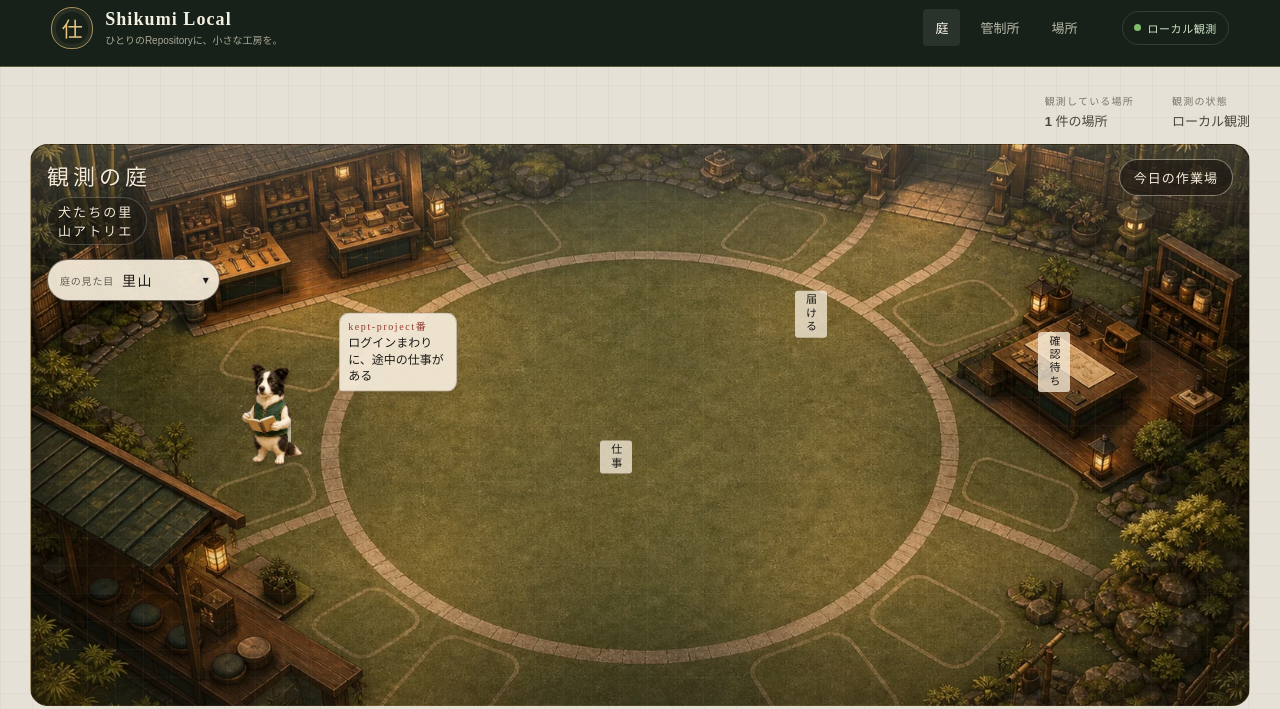
Test: Shikumi Local garden › restores a persisted workspace on load
The image size is (1280, 709).
Expected: the element with test id "workspace-line" shows "1 件の場所", [1045, 114, 1108, 129]
Expected: the heading "観測の庭" is shown, [47, 165, 151, 190]
Click the link "場所".
click(1064, 28)  # box [1052, 21, 1078, 36]
(page scrolled)
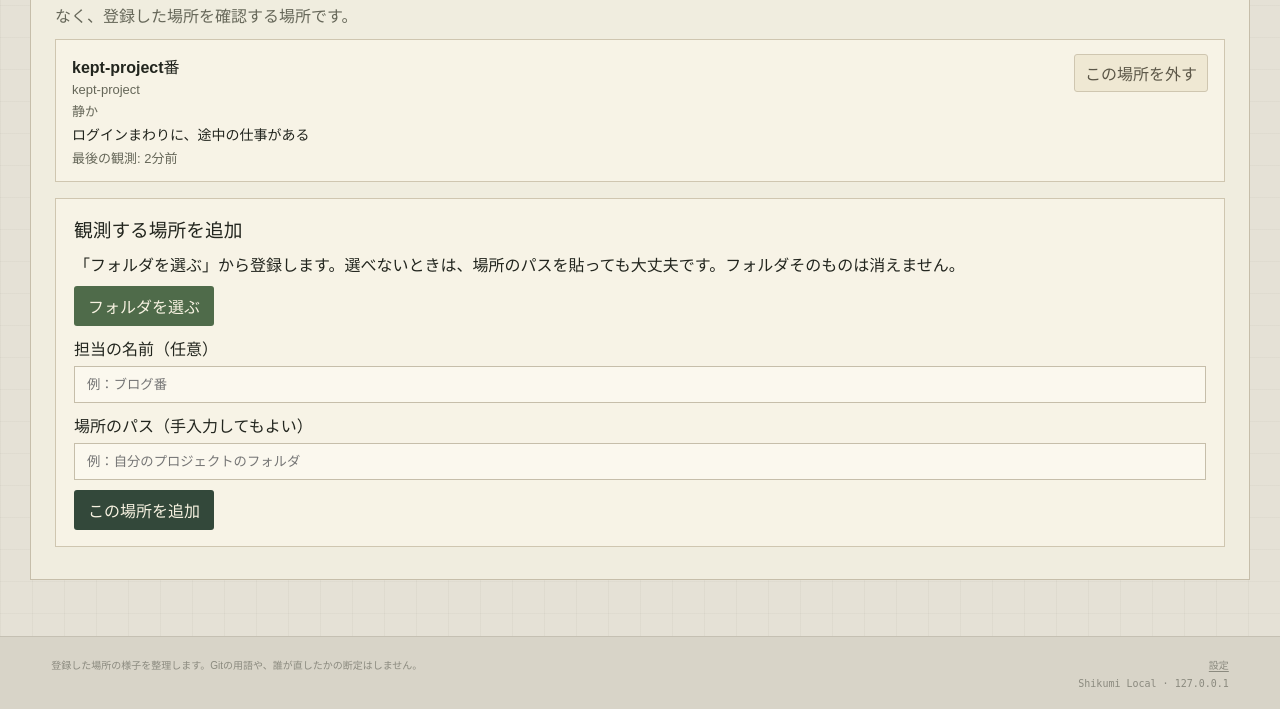
Expected: the text "kept-project番" is shown, [72, 59, 180, 76]
Expected: the button with test id "observer-place-repo_1" is shown, [72, 54, 1064, 167]
Expected: the button "この場所を追加" is shown, [74, 490, 214, 530]
